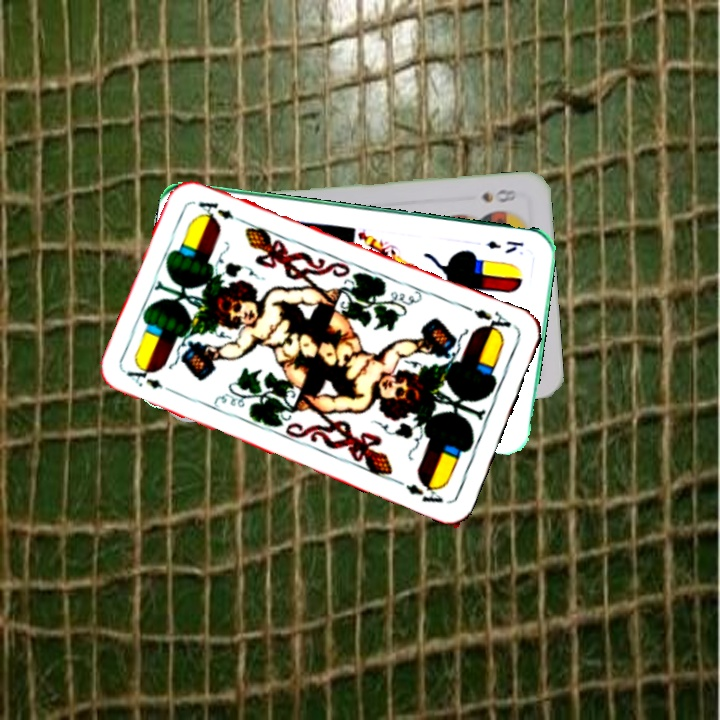EA: (122, 362, 179, 397), (470, 305, 514, 338)
EK: (483, 236, 526, 256)
S8: (478, 185, 520, 206)
